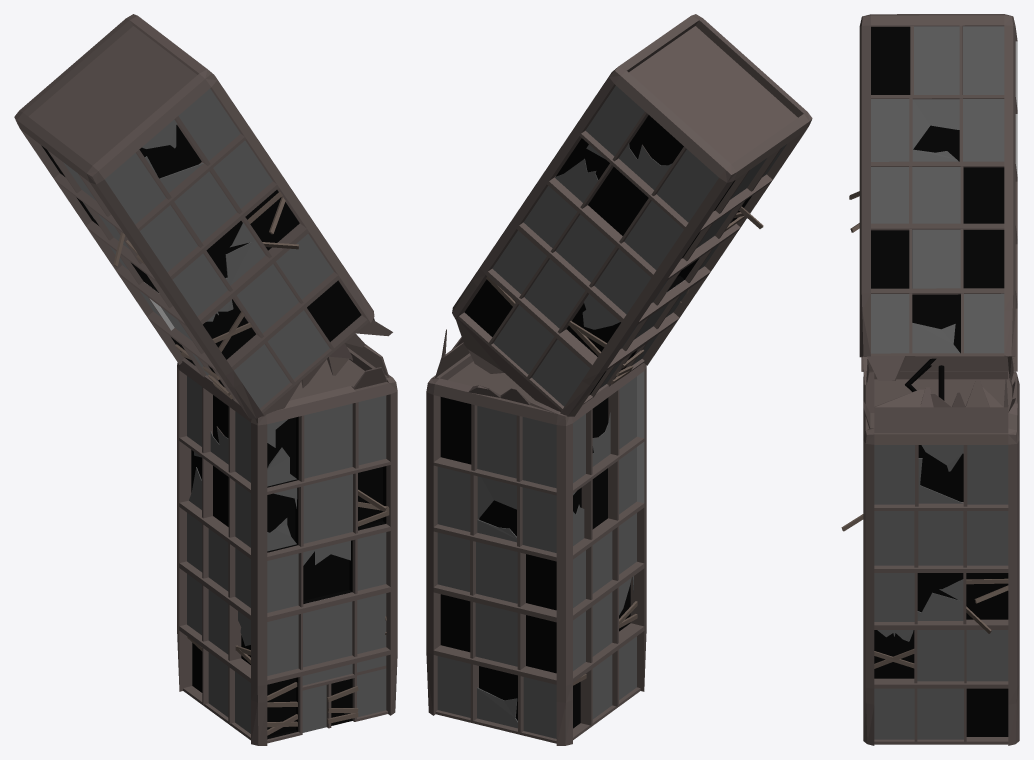
File: BrokenBuildingUNITY.fbx
3 views of the same model, side by side, from view 1: azimuth 30°, elevation 25°; view 2: azimuth 150°, elevation 25°; view 3: azimuth 270°, elevation 25° (orthographic). The views are drawn at different scales.
Visible parts, largest first — view 1: pasted__pasted__pCube26; view 2: pasted__pasted__pCube26; view 3: pasted__pasted__pCube26.
Boxes of the visible parts, <box> form: pasted__pasted__pCube26: <box>14,14,397,745</box>; pasted__pasted__pCube26: <box>426,14,812,745</box>; pasted__pasted__pCube26: <box>841,14,1019,745</box>.
Size of the model in its own units: 33.58 by 69.16 by 17.31.
